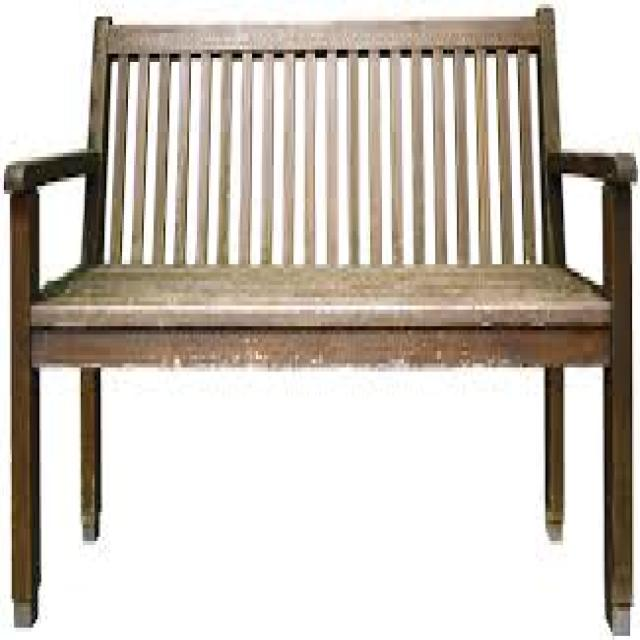chair: (7, 16, 636, 626)
